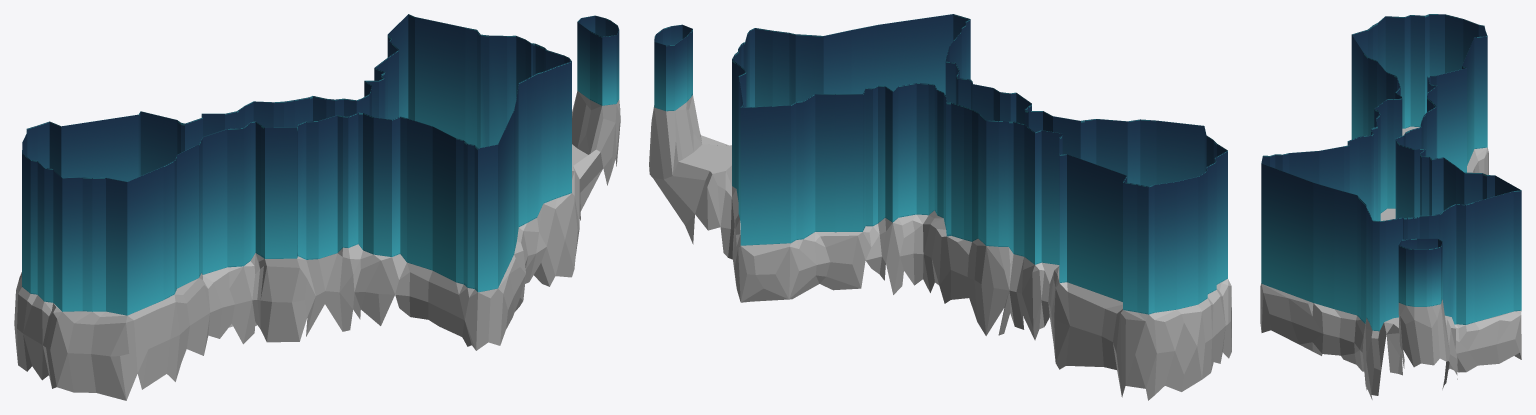
Rendered from MOD_Level1_Versie5.fbx.
The picture shows the model from 3 angles, left to right: view 1: azimuth 30°, elevation 25°; view 2: azimuth 150°, elevation 25°; view 3: azimuth 270°, elevation 25°; orthographic projection. The views are drawn at different scales.
Visible parts, largest first — view 1: MOD_Level1_Boundary, MOD_Level1_Crystal; view 2: MOD_Level1_Boundary, MOD_Level1_Crystal, MOD_Level1_Floor; view 3: MOD_Level1_Boundary, MOD_Level1_Crystal, MOD_Level1_Floor.
Boxes of the visible parts, x1,y1,x2,y2 form: MOD_Level1_Boundary: (22,14,619,315); MOD_Level1_Crystal: (14,91,620,400); MOD_Level1_Boundary: (654,14,1227,314); MOD_Level1_Crystal: (649,95,1231,400); MOD_Level1_Floor: (679,144,1224,284); MOD_Level1_Boundary: (1261,14,1521,331); MOD_Level1_Crystal: (1260,147,1521,399); MOD_Level1_Floor: (1380,126,1510,327).
Bounding box in the file's own units: 0.2033 × 0.0748 × 0.094.
2 materials, 1 textured.
